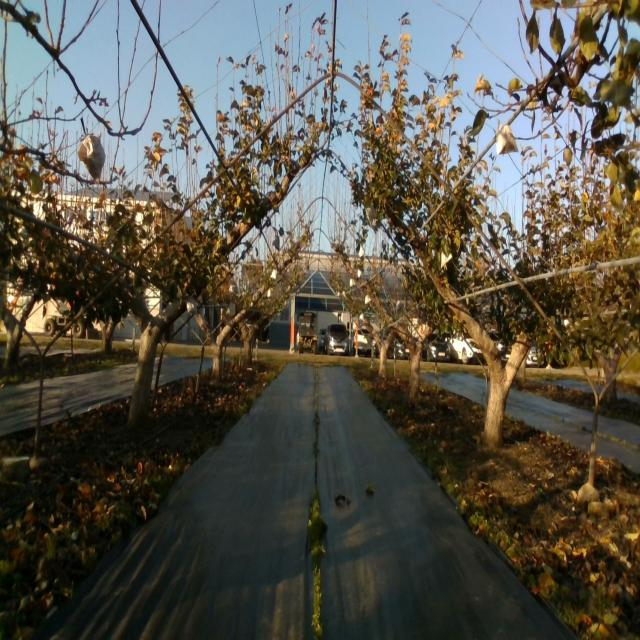pearbags: (77, 133, 105, 181), (496, 120, 518, 156), (364, 200, 375, 227), (186, 295, 198, 315)
